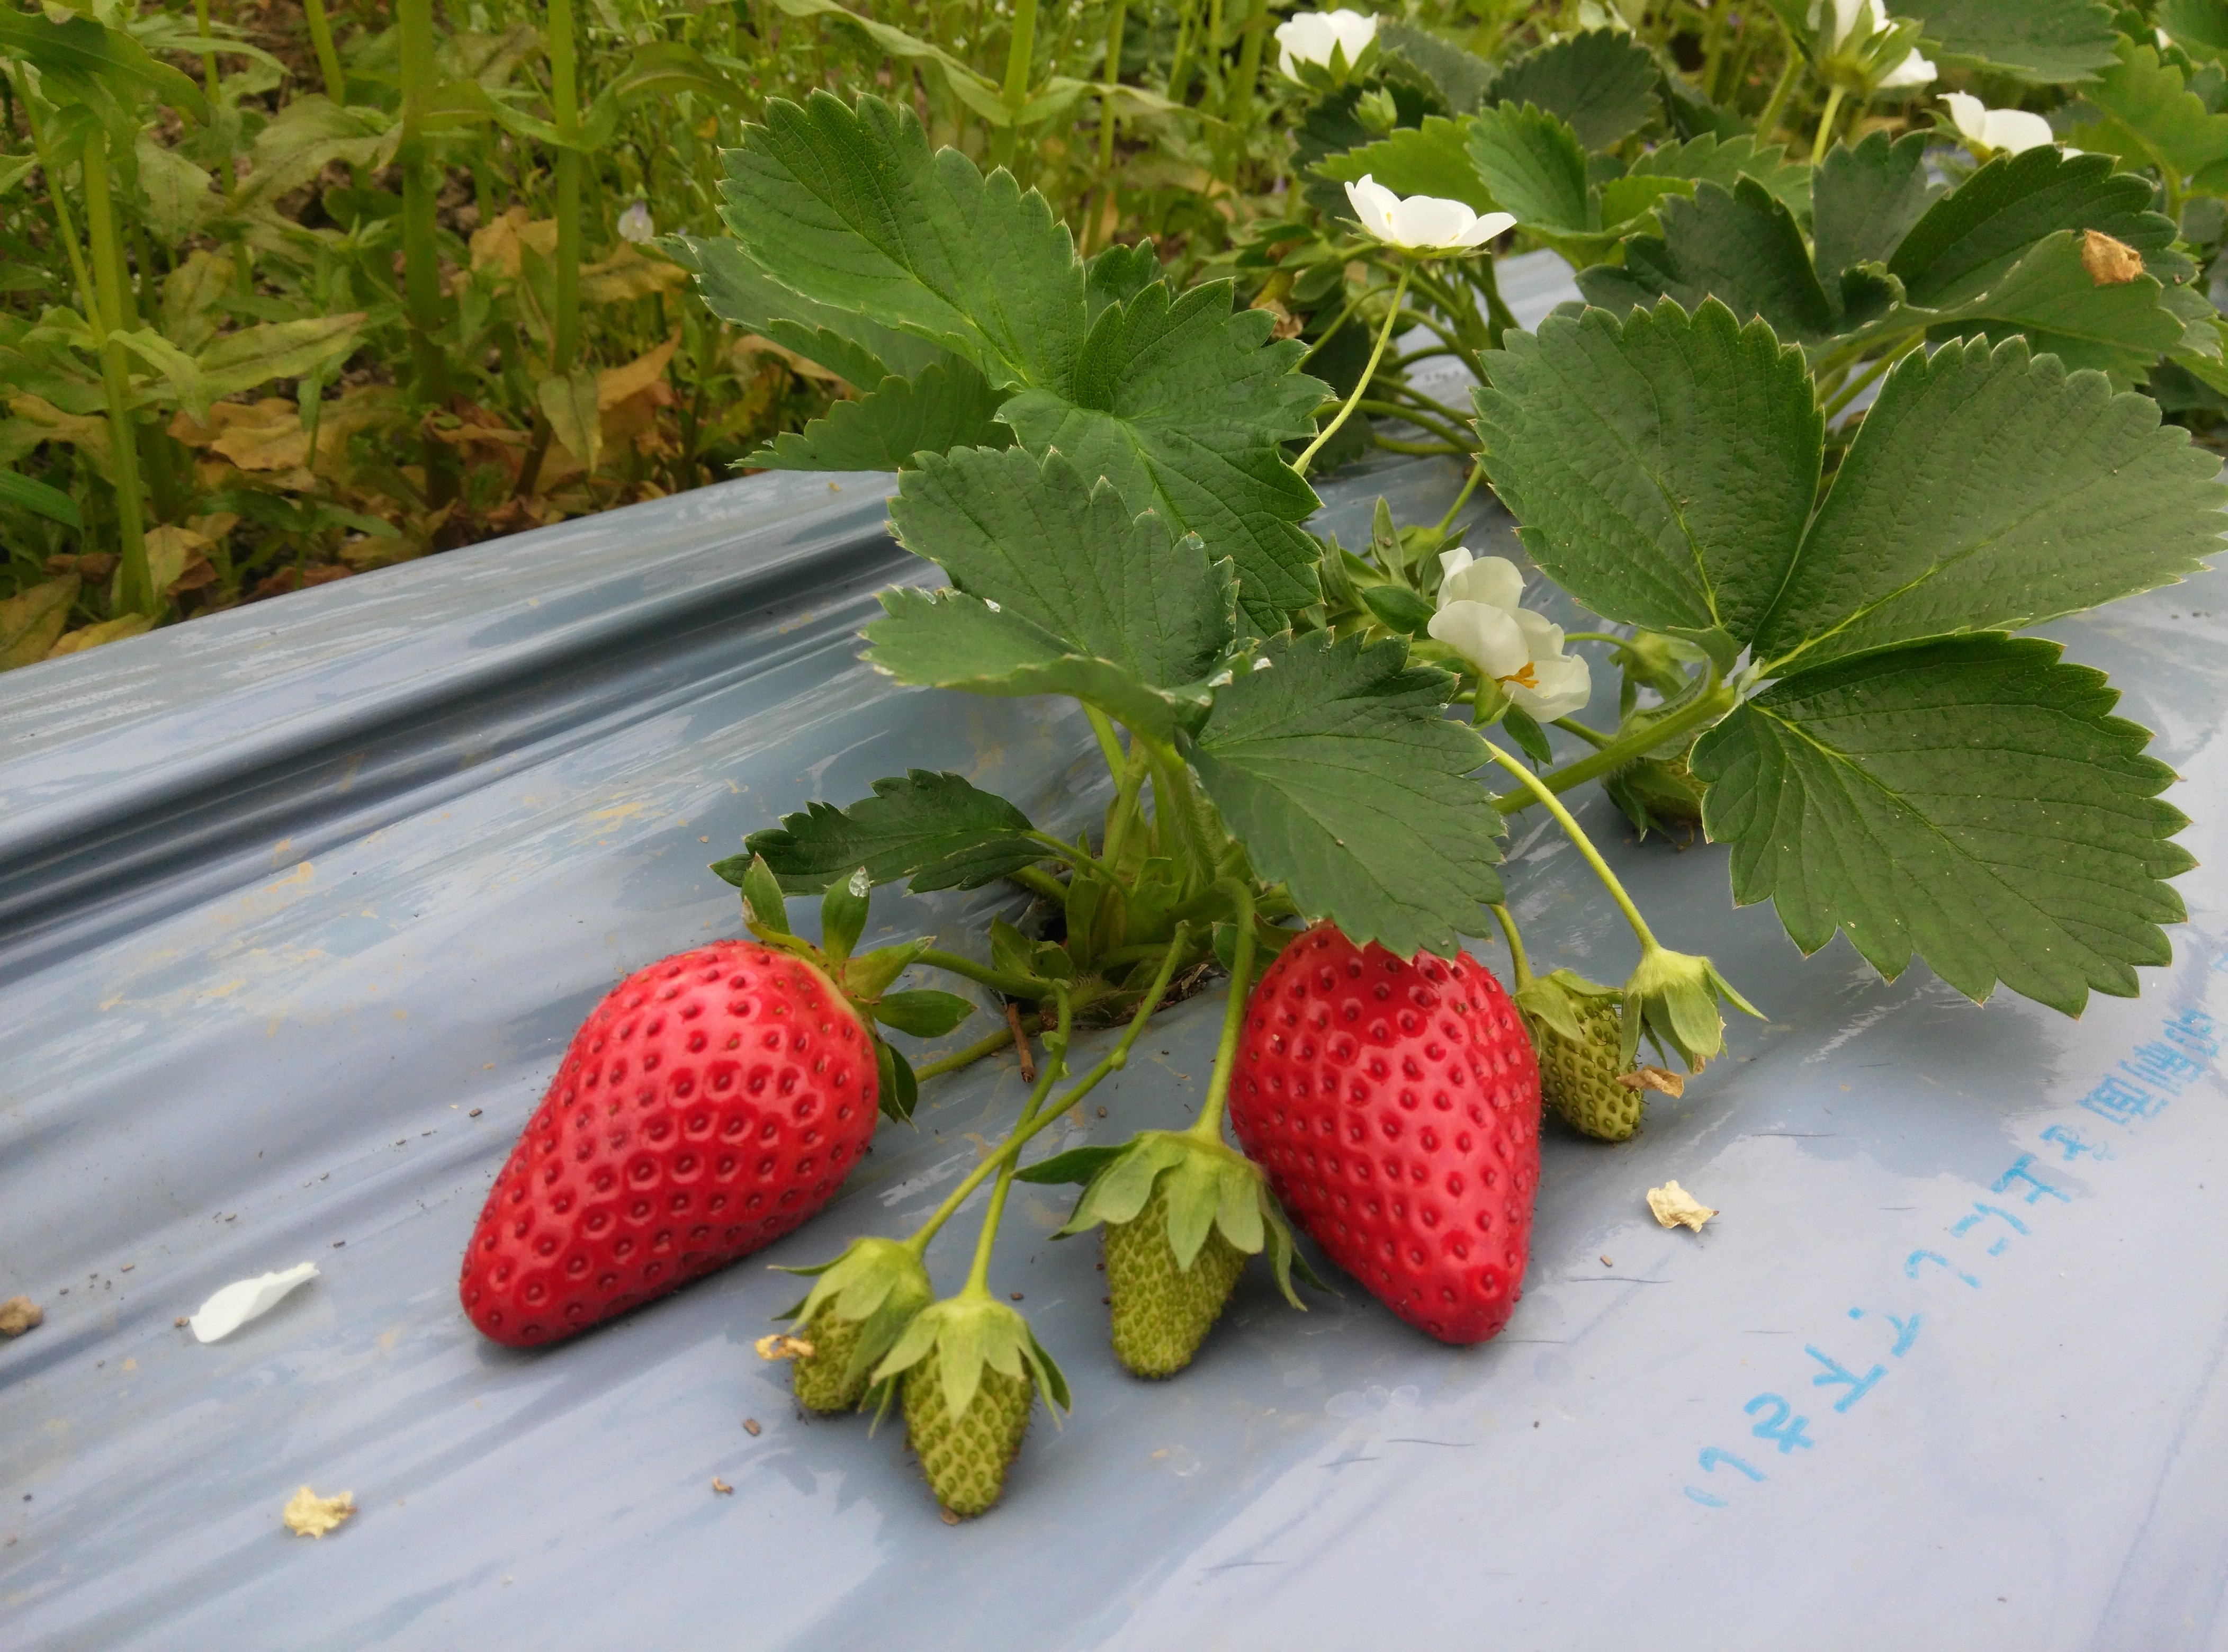StrawberryIrremovable: (1079, 1124, 1248, 1381), (904, 1308, 1034, 1515), (784, 1253, 934, 1414), (1536, 977, 1643, 1157)
StrawberryRemovable: (449, 923, 876, 1329), (1237, 906, 1536, 1345)
StrawberryWedge: (436, 916, 888, 1340), (1232, 901, 1539, 1348)
